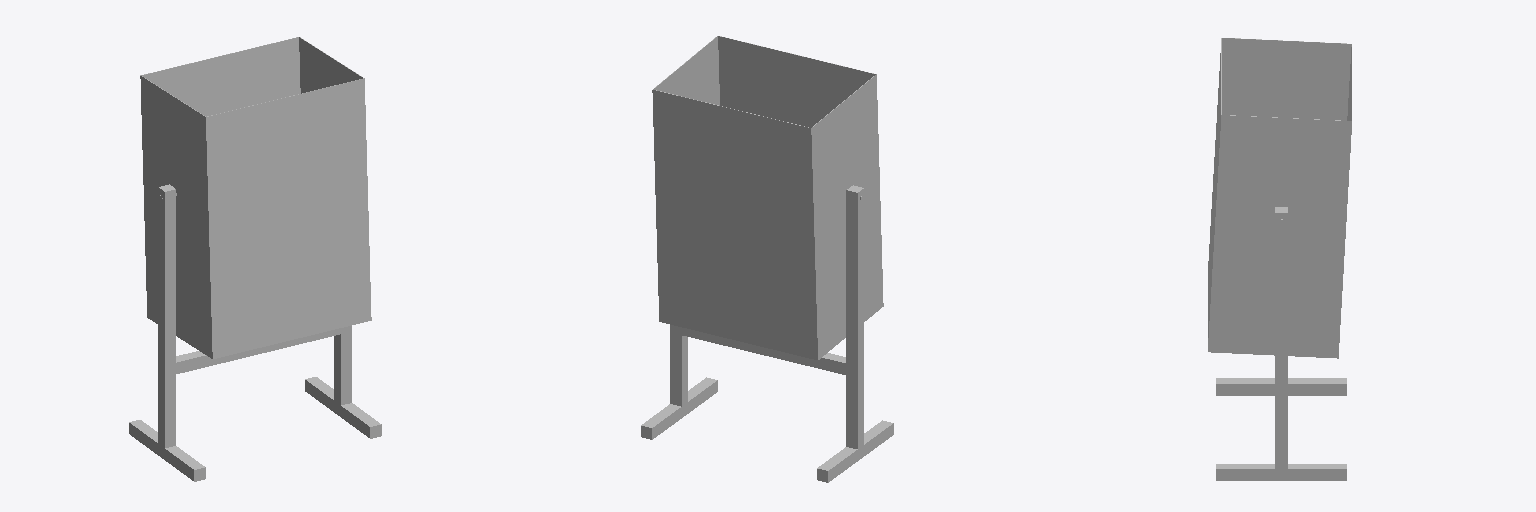
Rendered from bin.obj.
3 renders of one model, left to right at view 1: azimuth 30°, elevation 25°; view 2: azimuth 150°, elevation 25°; view 3: azimuth 270°, elevation 25°, orthographic.
Visible parts, largest first — view 1: bin; view 2: bin; view 3: bin.
Boxes of the visible parts, x1,y1,x2,y2 form: bin: [129, 37, 381, 481]; bin: [641, 36, 893, 482]; bin: [1208, 38, 1351, 480].
Bounding box in the file's own units: 0.3333 × 0.605 × 0.2207.